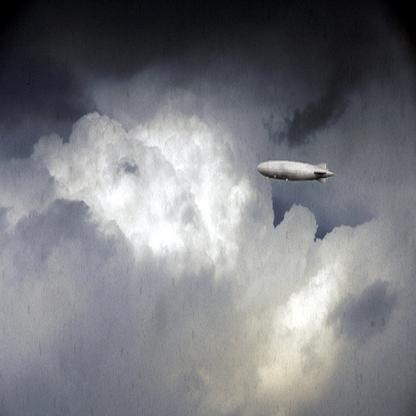Airship: (256, 155, 340, 190)
